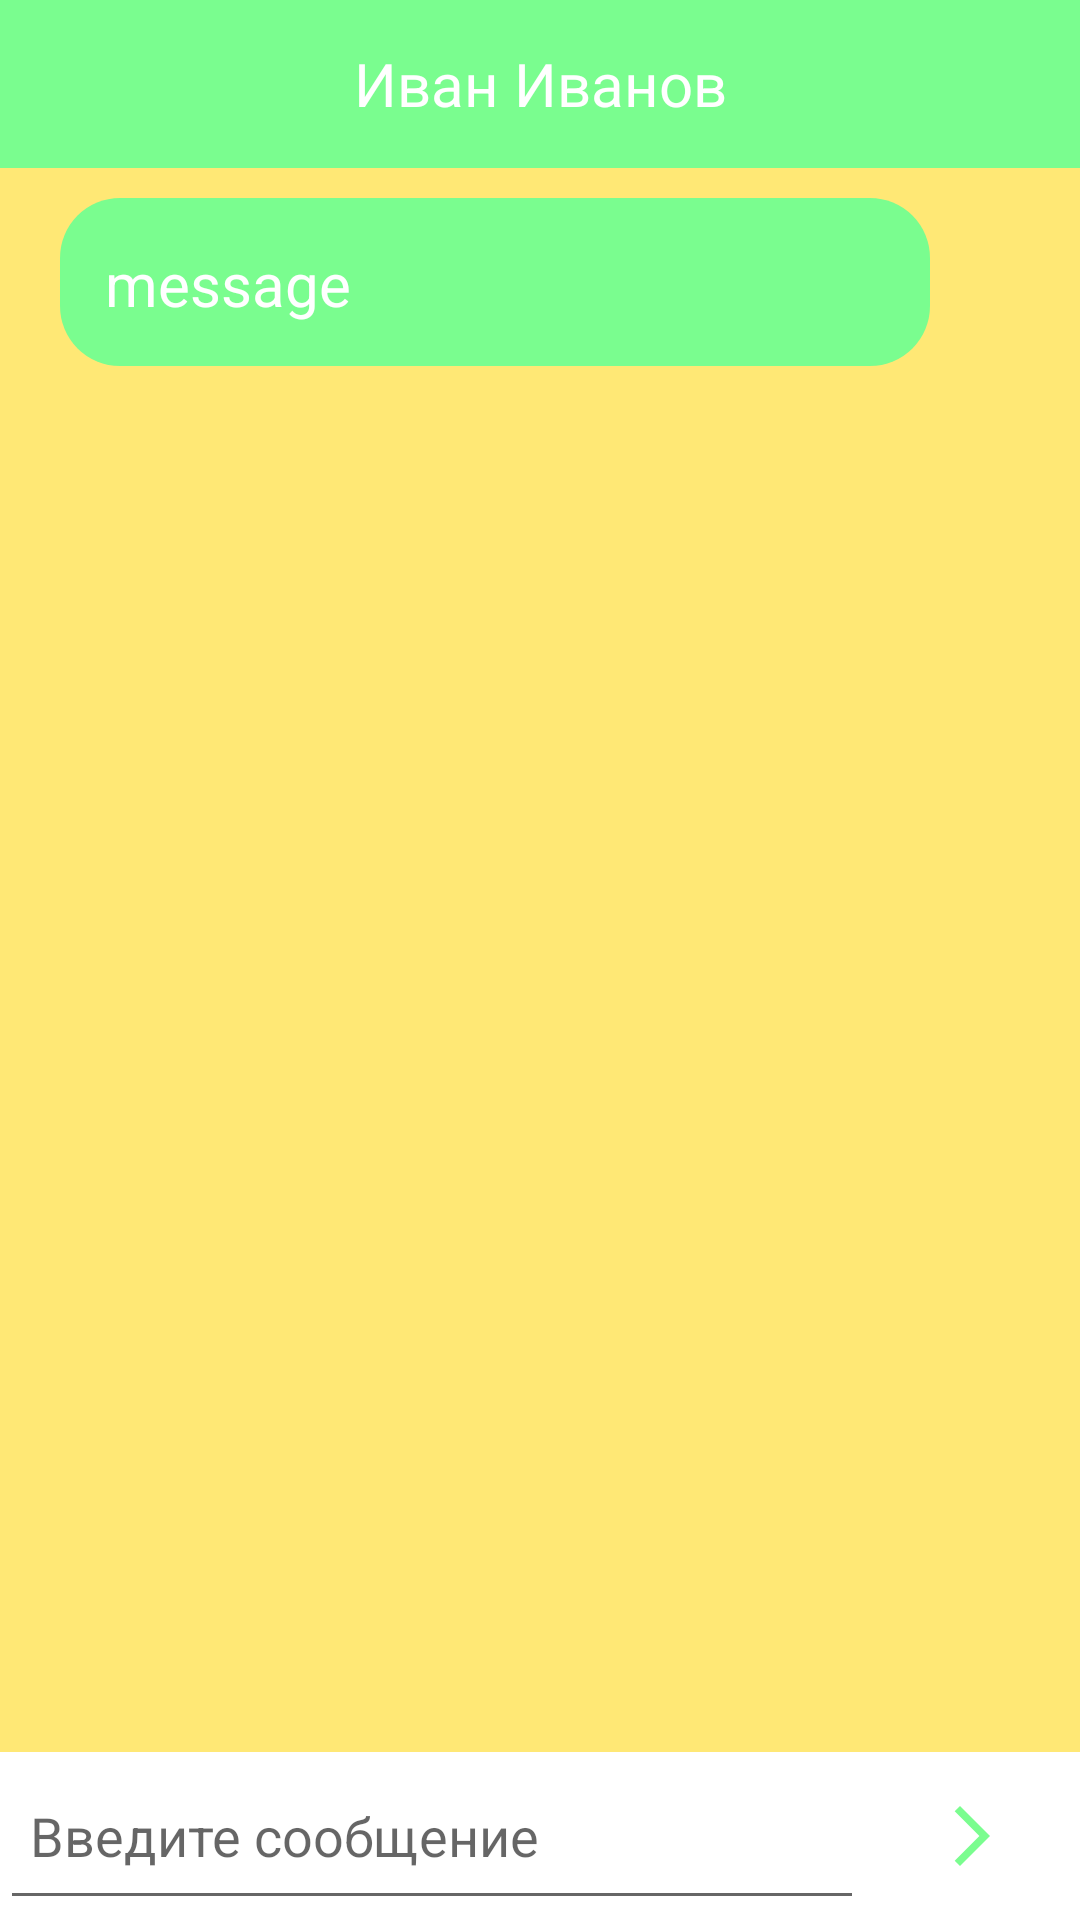

Screen size 1080 × 1920. Icon name, then its center in pixels as point (x, y):
arrow forward: point (972, 1836)
